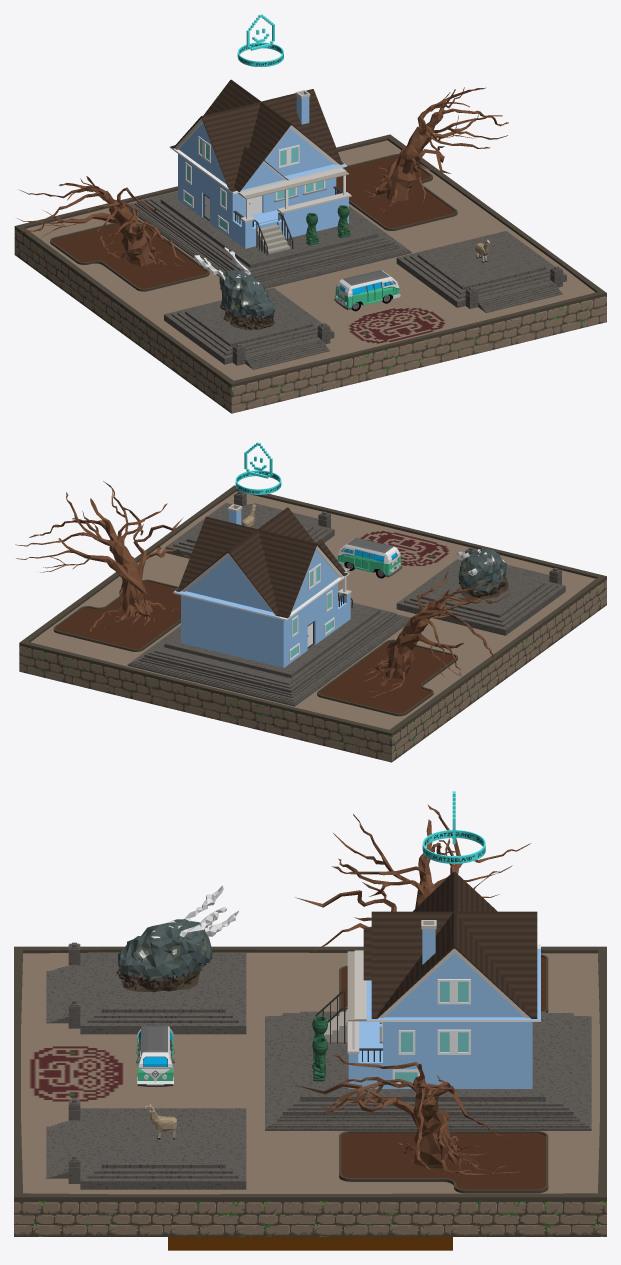
3 renders of one model, top to bottom at view 1: azimuth 30°, elevation 25°; view 2: azimuth 150°, elevation 25°; view 3: azimuth 270°, elevation 25°, orthographic. The views are drawn at different scales.
Parts seen in each view (by area): view 1: Cube.011, Cube.1594, OBJRANDOM_METEORITE, VEHICLES_VAN, TYPE_PREMIUM; view 2: Cube.011, Cube.1594, OBJRANDOM_METEORITE, VEHICLES_VAN, TYPE_PREMIUM; view 3: Cube.011, Cube.1594, OBJRANDOM_METEORITE, UNDERGROUND_ART_PIECE_VAN_GOGH, VEHICLES_VAN, TYPE_PREMIUM.
Boxes of the visible parts, x1,y1,x2,y2 form: Cube.011: [14, 87, 606, 413]; Cube.1594: [169, 79, 351, 255]; OBJRANDOM_METEORITE: [194, 247, 275, 329]; VEHICLES_VAN: [334, 270, 400, 311]; TYPE_PREMIUM: [237, 14, 283, 67]; Cube.011: [15, 481, 606, 762]; Cube.1594: [173, 504, 352, 667]; OBJRANDOM_METEORITE: [456, 548, 508, 600]; VEHICLES_VAN: [337, 537, 402, 578]; TYPE_PREMIUM: [235, 442, 281, 494]; Cube.011: [14, 804, 606, 1236]; Cube.1594: [315, 872, 540, 1088]; OBJRANDOM_METEORITE: [116, 885, 238, 992]; UNDERGROUND_ART_PIECE_VAN_GOGH: [168, 1237, 452, 1250]; VEHICLES_VAN: [136, 1026, 174, 1086]; TYPE_PREMIUM: [422, 791, 485, 863].
Bounding box in the file's own units: 5099 × 2592 × 4000.
Materials: 39 (7 with a texture image).
